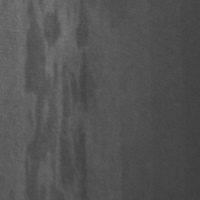inclusion: (19, 3, 91, 199)
